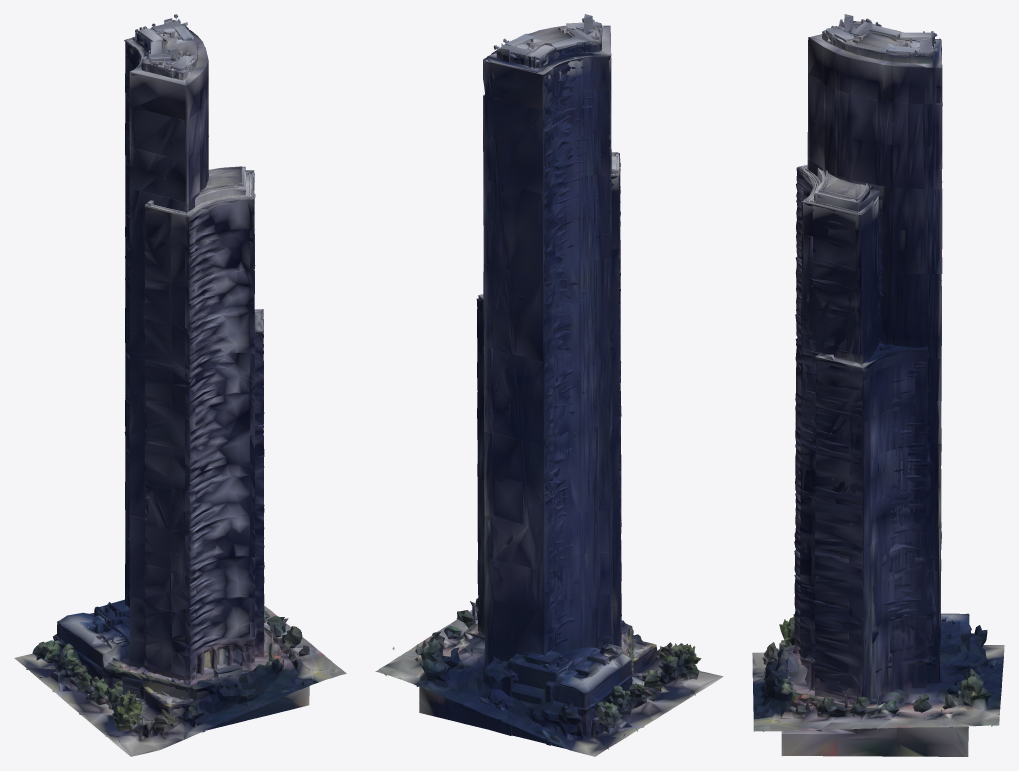
The model's file is columbiaTower.glb.
3 views of the same model, side by side, from view 1: azimuth 30°, elevation 25°; view 2: azimuth 150°, elevation 25°; view 3: azimuth 270°, elevation 25° (orthographic). The views are drawn at different scales.
Visible parts, largest first — view 1: Google 3D Tiles; view 2: Google 3D Tiles; view 3: Google 3D Tiles.
Part boxes in pixels (x1=…): Google 3D Tiles: x1=14, y1=14, x2=346, y2=756; Google 3D Tiles: x1=375, y1=14, x2=723, y2=756; Google 3D Tiles: x1=752, y1=14, x2=1004, y2=756.
Size of the model in its own units: 3.27 by 9.38 by 3.12.
